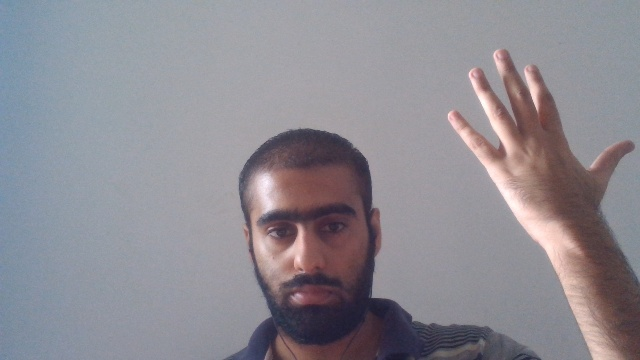paper: (446, 47, 636, 247)
